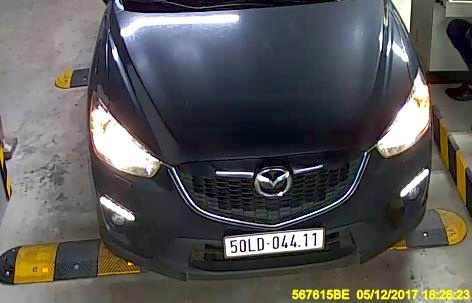plate: (222, 224, 326, 255)
